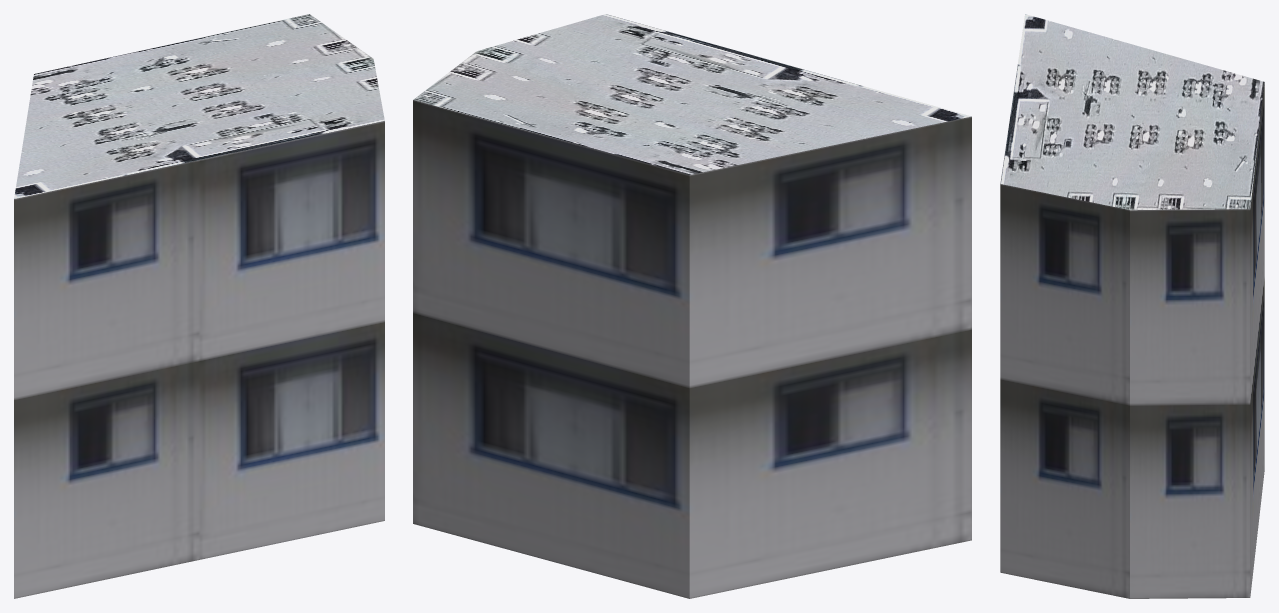
Rendered from ResTex__1382.fbx.
The picture shows the model from 3 angles, left to right: view 1: azimuth 30°, elevation 25°; view 2: azimuth 150°, elevation 25°; view 3: azimuth 270°, elevation 25°; orthographic projection. The views are drawn at different scales.
Visible parts, largest first — view 1: CityEngineMaterial_9_m, CityEngineMaterial_m; view 2: CityEngineMaterial_9_m, CityEngineMaterial_m; view 3: CityEngineMaterial_9_m, CityEngineMaterial_m.
Part boxes in pixels (bbox=[...]): CityEngineMaterial_9_m: bbox=[14, 121, 384, 598]; CityEngineMaterial_m: bbox=[14, 14, 384, 198]; CityEngineMaterial_9_m: bbox=[413, 100, 971, 598]; CityEngineMaterial_m: bbox=[413, 14, 971, 174]; CityEngineMaterial_9_m: bbox=[1000, 83, 1264, 598]; CityEngineMaterial_m: bbox=[1000, 14, 1264, 210].
Size of the model in its own units: 6.49 by 6 by 3.7.
Materials: 2 (2 with a texture image).
